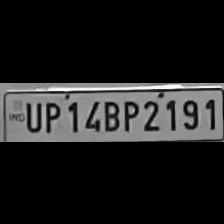1: (63, 97, 81, 132), (160, 96, 178, 130), (201, 96, 219, 128)
2: (139, 96, 161, 130)
4: (81, 96, 101, 132)
9: (178, 96, 200, 130)
B: (100, 96, 119, 132)
P: (41, 97, 61, 132), (119, 96, 138, 132)
U: (22, 98, 42, 132)
